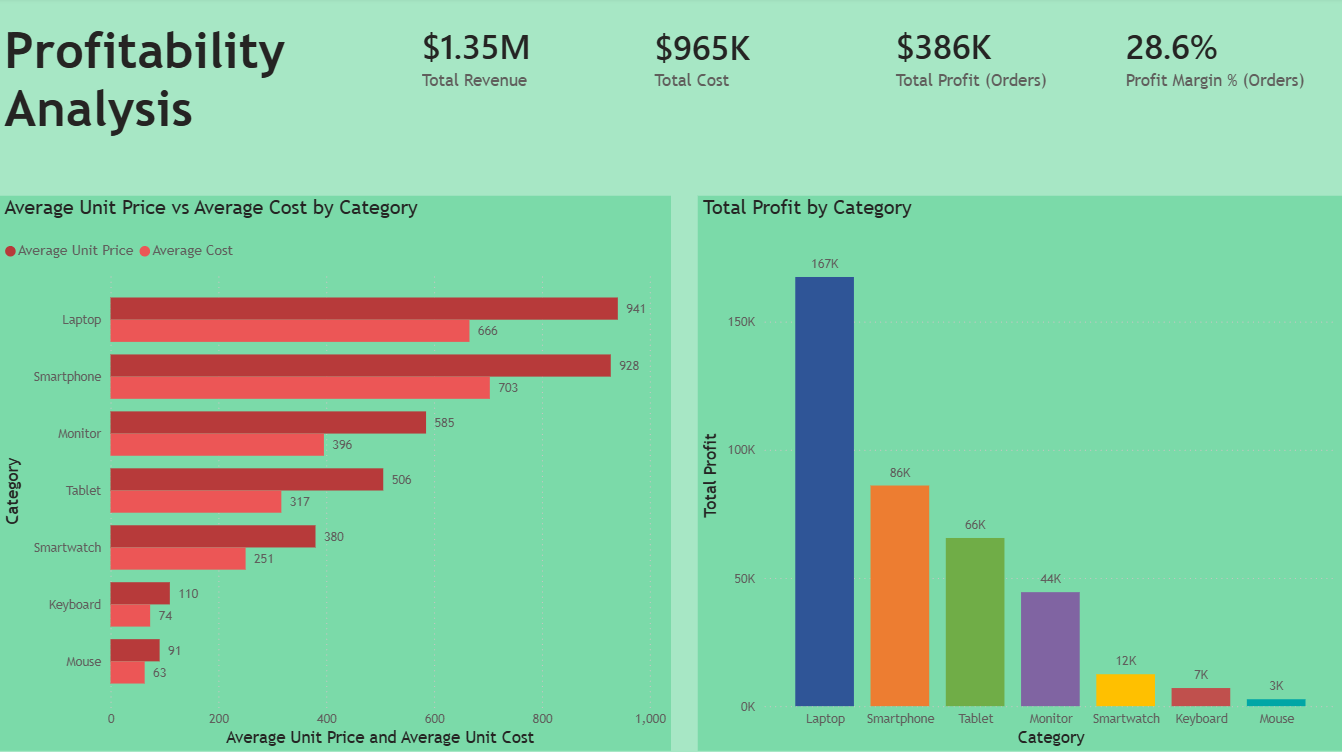

Layout of this report page (visuals, bound fields, positions):
{"tool":"powerbi","page":{"name":"Profitability Analysis","canvas":[1280,720],"ordinal":2},"visuals":[{"type":"cardVisual","fields":{"Data":["Order_Items.Total Cost"]},"box":[595.2,1.2,229.8,111.9],"z":0},{"type":"cardVisual","fields":{"Data":["Order_Items.Profit Margin %"]},"box":[1044.1,0,235.7,113.1],"z":1000},{"type":"cardVisual","fields":{"Data":["Order_Items.Total Profit"]},"box":[825,0,219,113.1],"z":2000},{"type":"cardVisual","fields":{"Data":["Orders.Total Revenue"]},"box":[384.5,0,210.7,113.1],"z":3000},{"type":"clusteredBarChart","title":"Average Unit Price vs Average Cost by Category","fields":{"Category":["Categories.Category_Name"],"Y":["Order_Items.Average Unit Price","Products.Average Cost"]},"box":[0,189.4,640,529.5],"z":4000},{"type":"columnChart","title":"Total Profit by Category","fields":{"Category":["Categories.Category_Name"],"Y":["_DAX Measures.Total Profit (Item Level)"]},"box":[665.8,189.4,614.2,529.5],"z":5000},{"type":"textbox","box":[0,17.9,385,150],"z":6000}]}

Visuals, with their boxes in screenshot pixels (x1, y1, x2, y2), scaled from the page's 1280x720 canvas onto the 1342x752 screenshot:
cardVisual - Order_Items.Total Cost: 624:1:865:118
cardVisual - Order_Items.Profit Margin %: 1095:0:1341:118
cardVisual - Order_Items.Total Profit: 865:0:1095:118
cardVisual - Orders.Total Revenue: 403:0:624:118
"Average Unit Price vs Average Cost by Category" clusteredBarChart: 0:198:671:751
"Total Profit by Category" columnChart: 698:198:1341:751
textbox: 0:19:404:175
